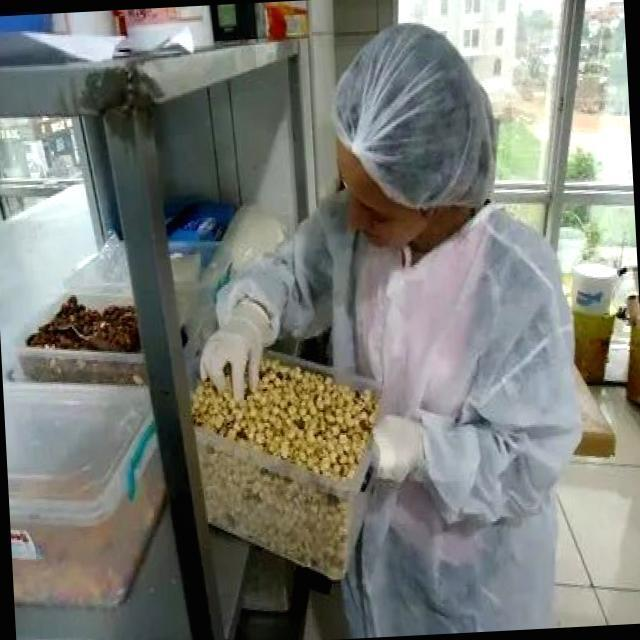apron: (206, 290, 273, 402), (364, 401, 418, 479)
